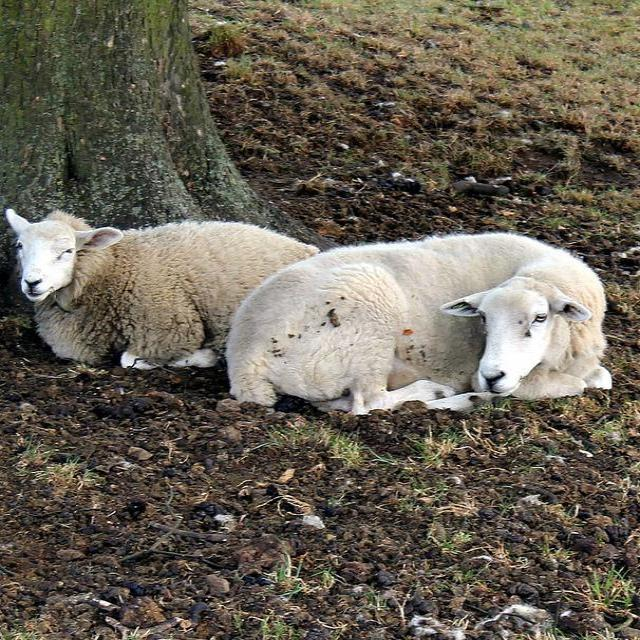Sheep: (226, 234, 614, 416), (6, 208, 322, 372)
